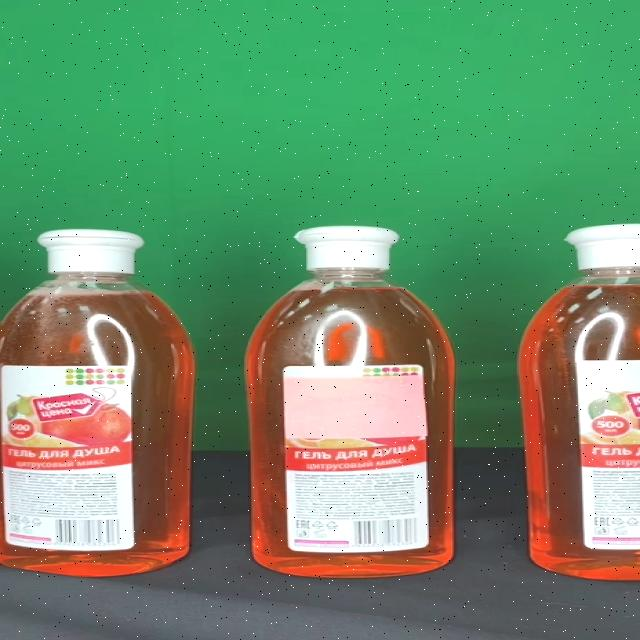Bottle: (248, 225, 454, 579), (0, 229, 197, 576)
Cap: (38, 230, 144, 274), (295, 226, 401, 270)
